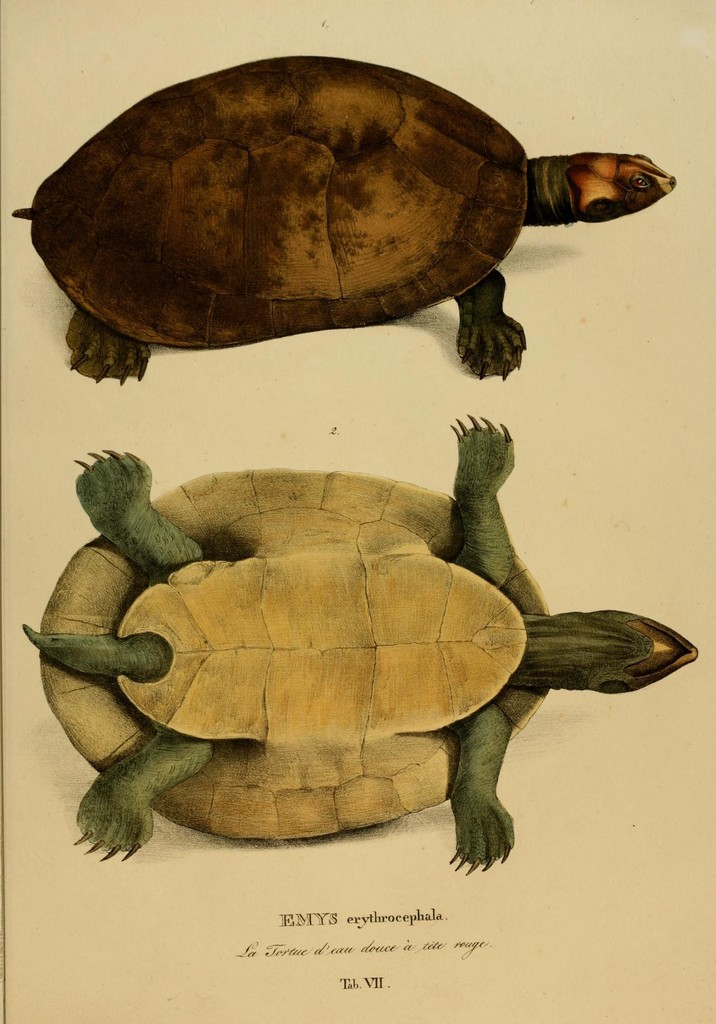Sea turtles: (10, 408, 696, 880), (5, 55, 675, 385)
